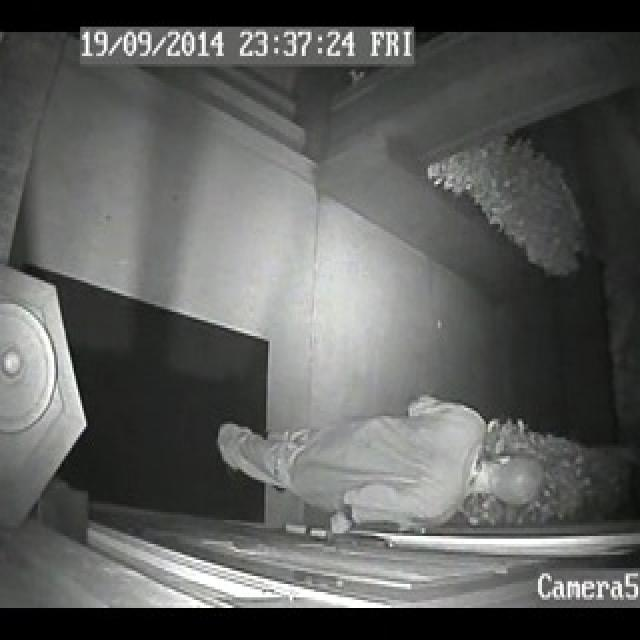thief: (213, 382, 546, 535)
